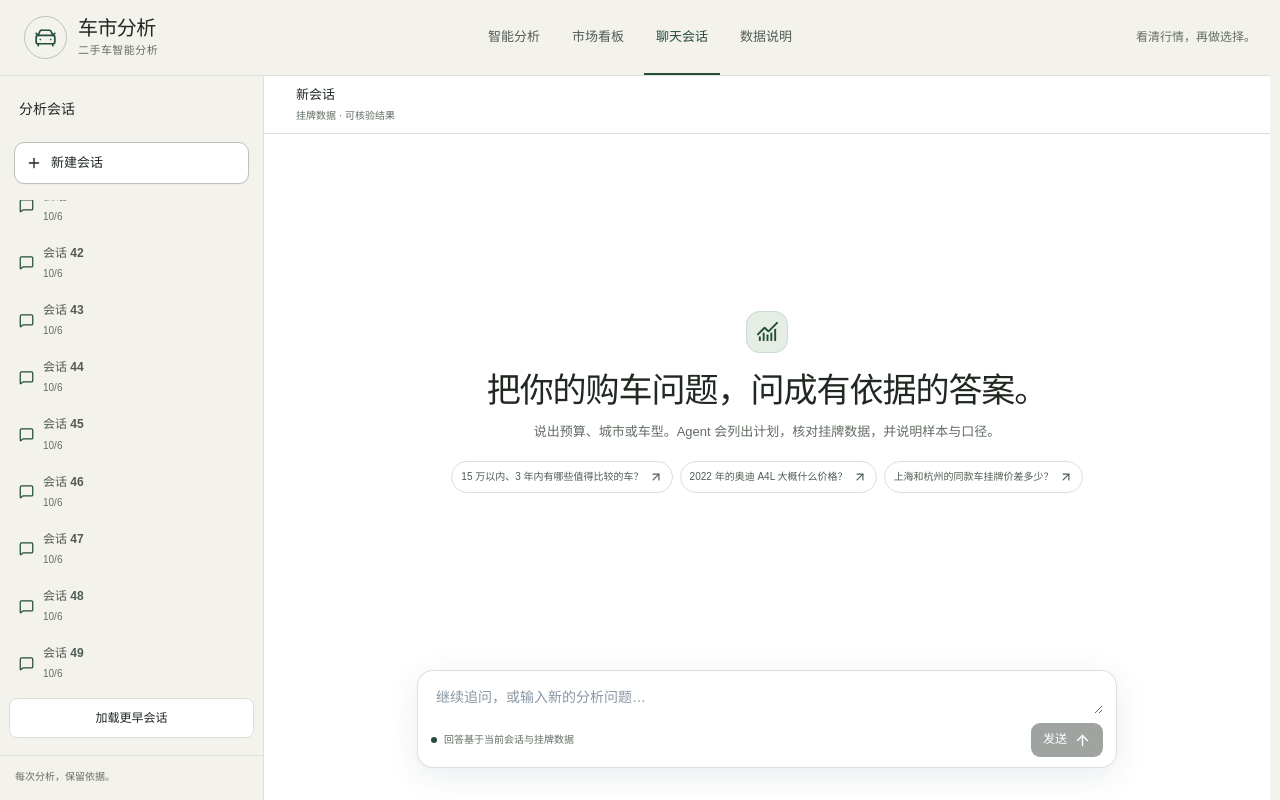
Scenario: homepage to conversation › loads the next 50-conversation page in the sidebar
The width and height of the screenshot is (1280, 800).
(page scrolled)
Click the button with class "conversation-sidebar__more" at point(132, 718), box [9, 698, 254, 738]
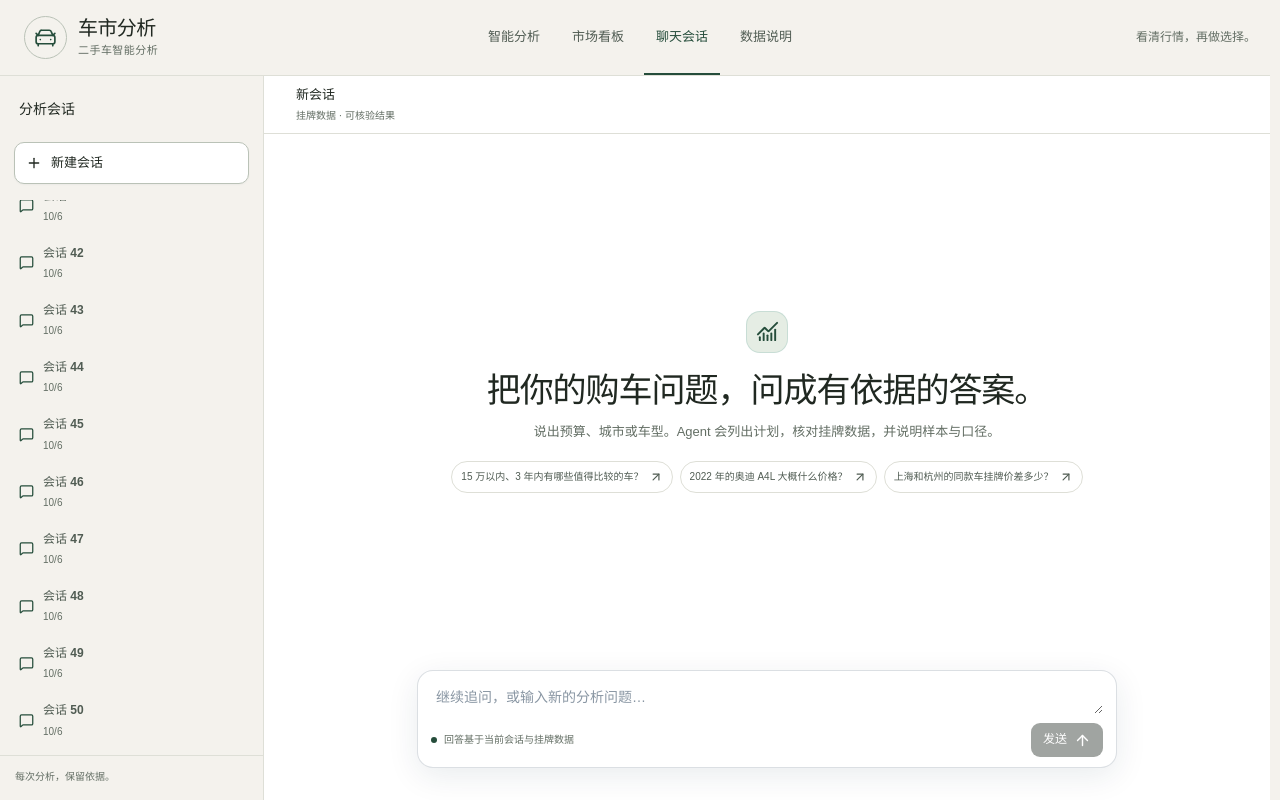
expect the text "会话 50" is shown: met, box [43, 703, 84, 717]
